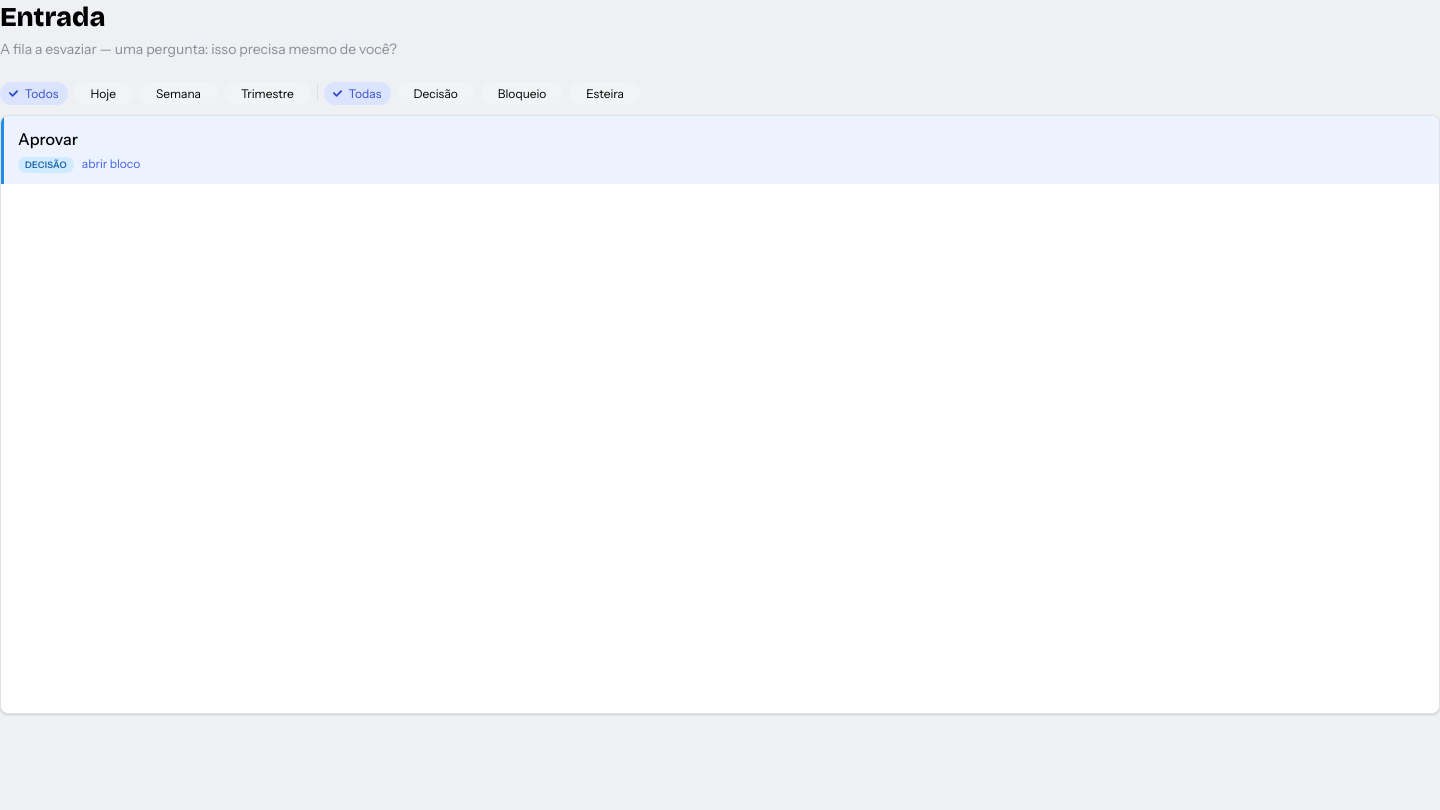
Test case: repasse reconhecível › seleciona pessoa por nome sem exibir UUID
Expected: the text "Aprovar" is shown, x1=18 y1=129 x2=78 y2=149
Press 2
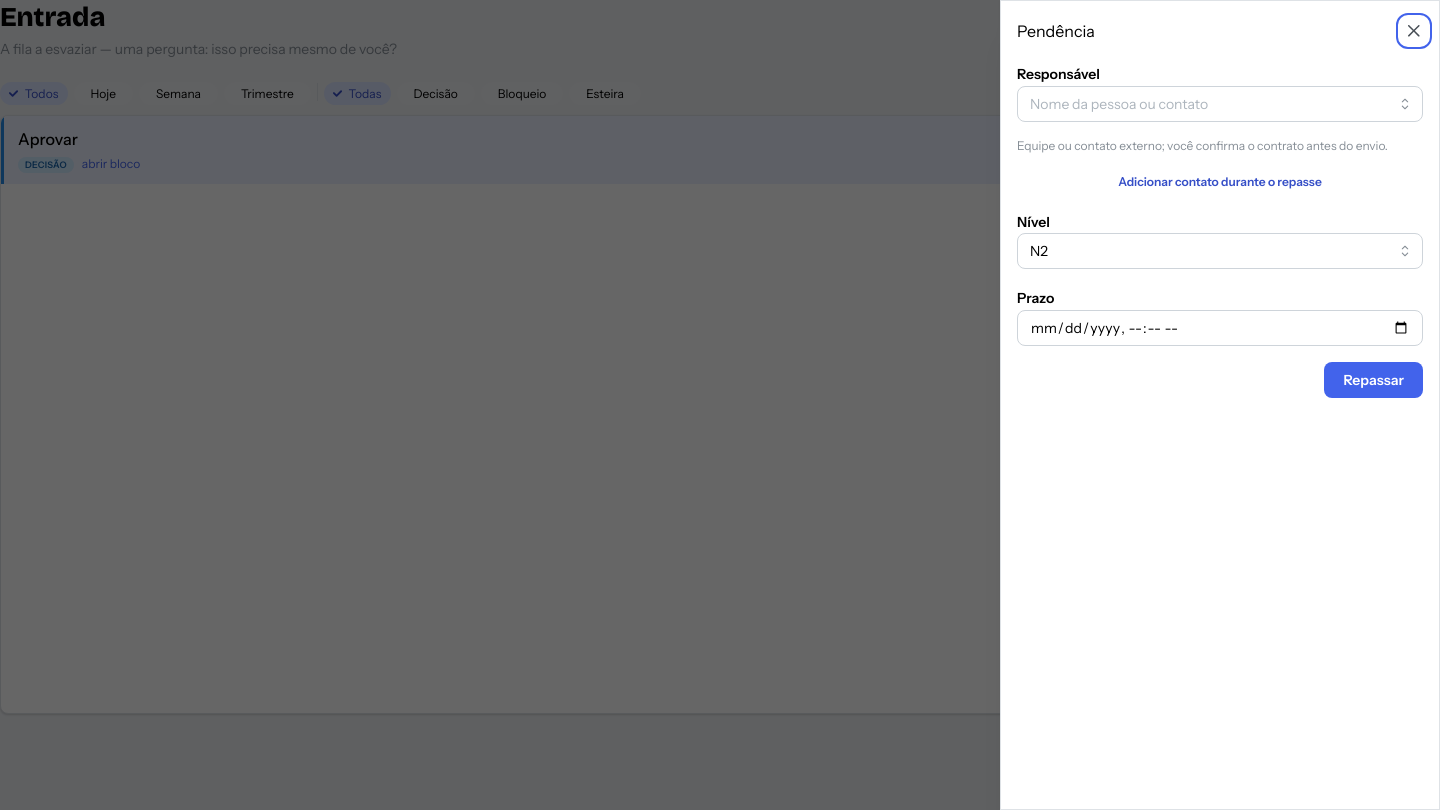
Click the dropdown with placeholder "Nome da pessoa ou contato" at (1220,104), box x1=1017 y1=86 x2=1423 y2=122
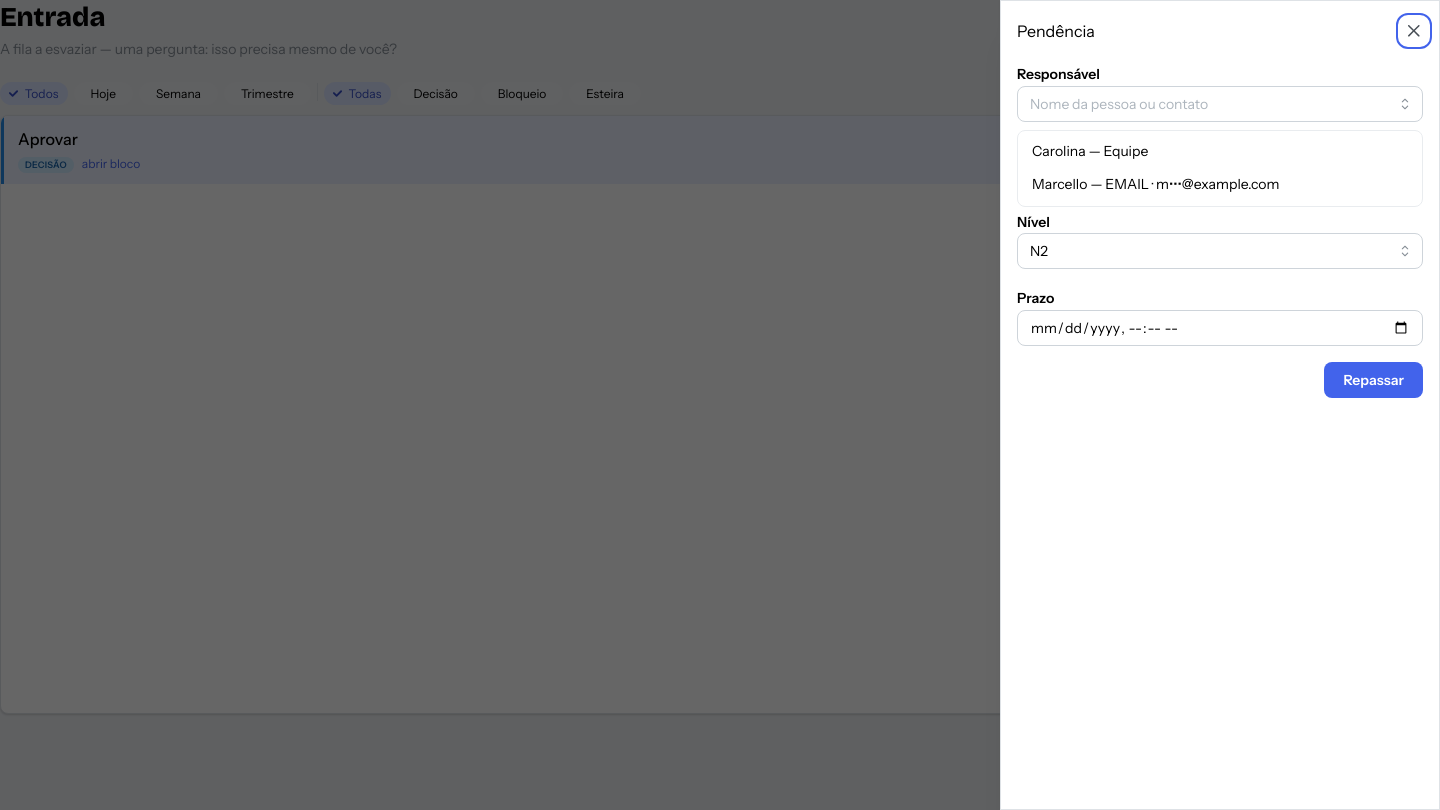
Expected: the text "Carolina — Equipe" is shown, x1=1032 y1=141 x2=1148 y2=162
